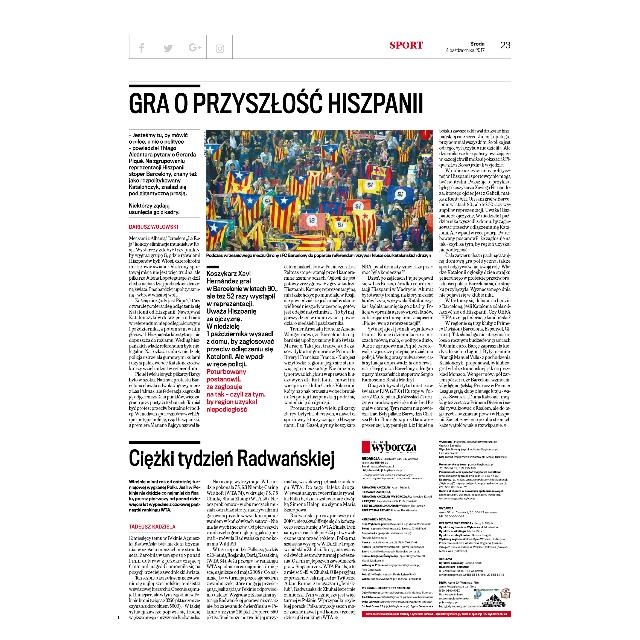article: (128, 84, 514, 432), (128, 441, 356, 624)
